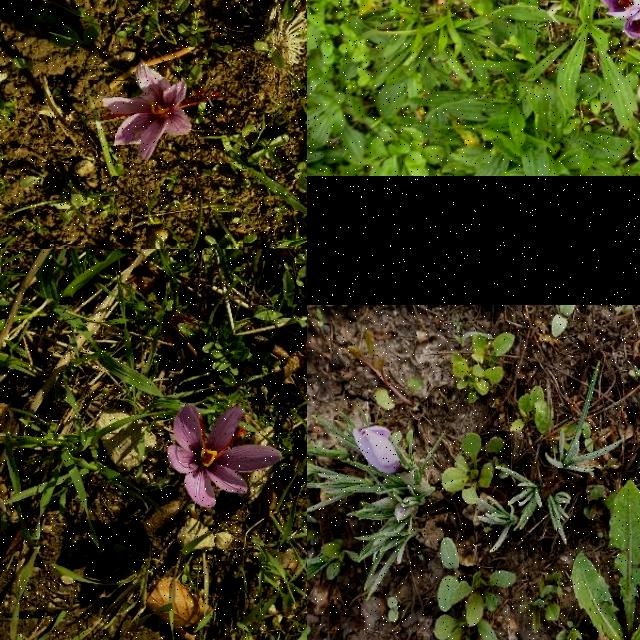flower: (166, 406, 284, 510), (103, 64, 221, 162), (352, 426, 403, 476), (600, 0, 640, 18), (623, 10, 640, 40)
